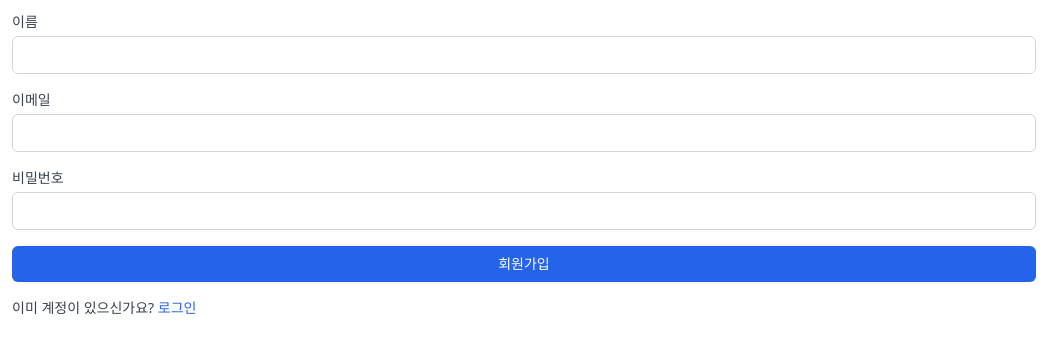
Test: RegisterForm › 이메일 중복(409) 시 안내 메시지를 표시한다
The image size is (1048, 364).
In the field labelled "이름": (524, 55) [12, 36, 1036, 74], type "홍길동"
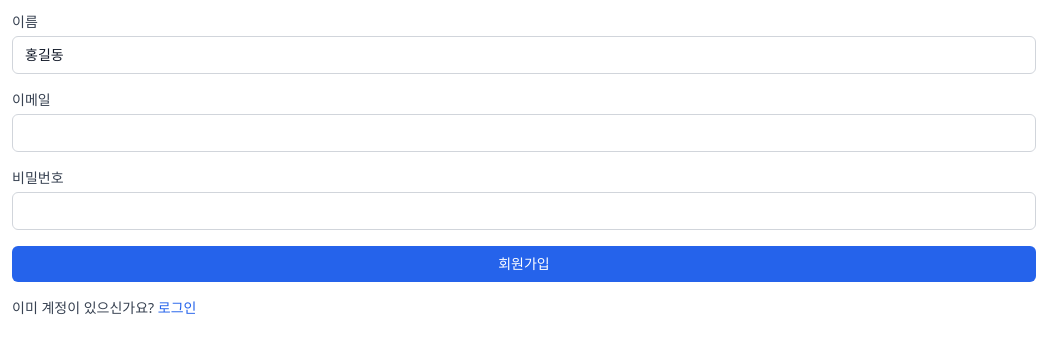
In the field labelled "이메일": (524, 133) [12, 114, 1036, 152], type "dup@test.com"
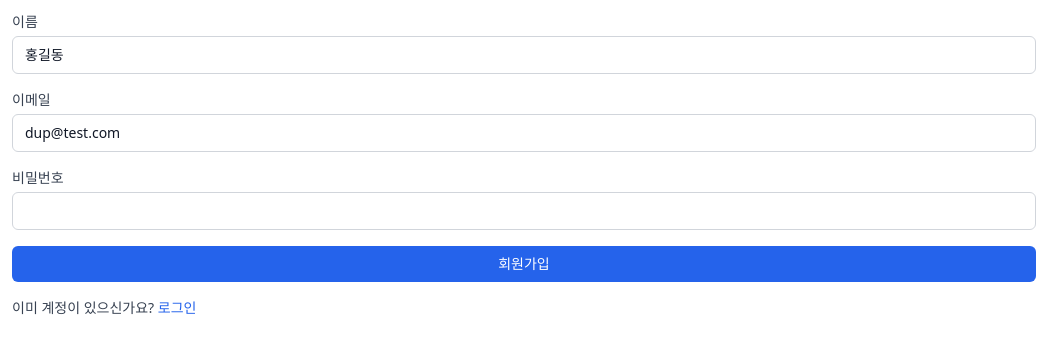
In the password field labelled "비밀번호": (524, 211) [12, 192, 1036, 230], type "password123"
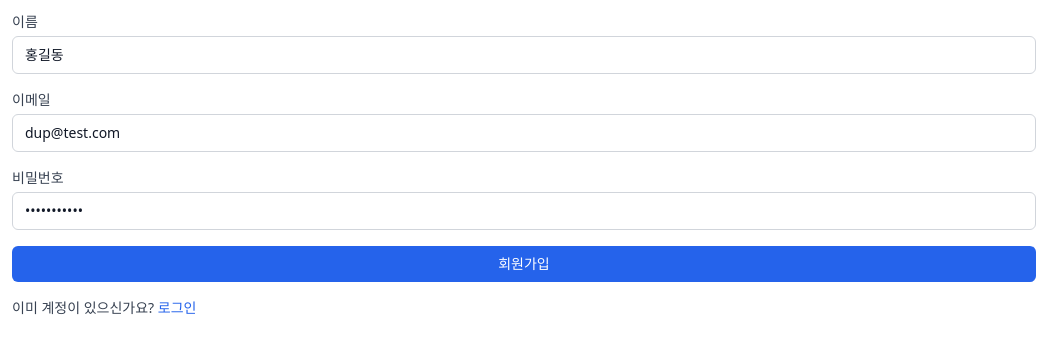
Click the button "회원가입": (524, 264) [12, 246, 1036, 282]
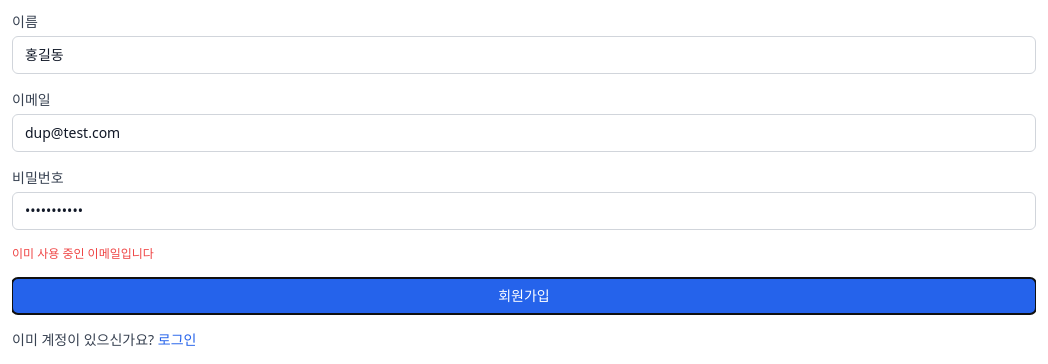
Expected: the text "이미 사용 중인 이메일입니다" is shown, [12, 245, 154, 262]
